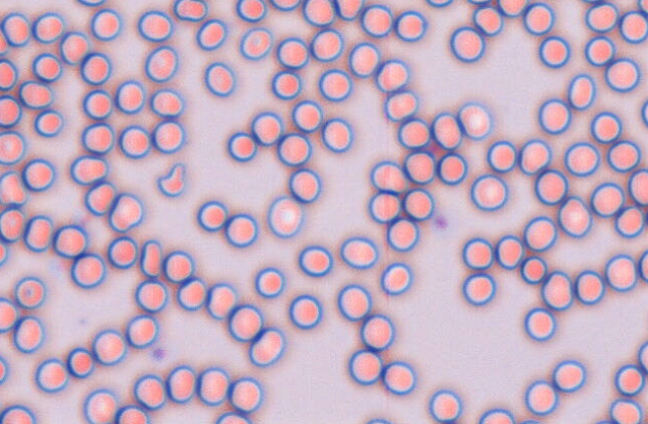PLT: (432, 213, 449, 230), (151, 345, 167, 361)
RBC: (266, 195, 303, 238), (248, 326, 286, 367), (470, 173, 508, 211), (557, 196, 592, 237), (227, 303, 263, 342), (227, 376, 263, 413), (91, 328, 127, 365), (457, 101, 492, 139), (360, 313, 395, 351), (339, 235, 378, 269), (541, 270, 574, 310), (196, 366, 229, 406), (449, 26, 485, 62), (70, 252, 106, 288), (604, 57, 641, 92), (563, 141, 600, 176), (337, 283, 371, 321), (590, 181, 625, 217), (34, 357, 69, 393), (52, 223, 88, 258), (369, 159, 406, 193), (523, 215, 557, 252), (518, 138, 552, 175), (534, 168, 568, 205), (144, 45, 178, 82), (604, 253, 637, 291), (348, 349, 382, 385), (288, 293, 322, 329), (133, 373, 166, 410), (13, 315, 45, 353), (165, 364, 196, 403), (431, 111, 462, 150), (69, 154, 108, 185), (83, 388, 117, 423), (524, 380, 558, 415), (428, 388, 462, 423), (381, 360, 416, 394), (134, 278, 168, 313), (277, 132, 312, 166), (224, 212, 258, 247), (288, 167, 321, 203), (538, 98, 571, 134), (137, 9, 173, 42), (205, 282, 237, 319), (151, 119, 185, 153), (310, 28, 344, 62), (375, 58, 409, 92), (21, 157, 55, 191), (125, 314, 159, 348), (239, 26, 273, 60), (461, 272, 496, 305), (606, 139, 641, 172), (348, 41, 380, 77), (23, 214, 53, 252), (386, 217, 419, 251), (523, 307, 556, 341), (522, 1, 555, 35), (13, 275, 46, 309), (552, 359, 586, 392), (318, 68, 352, 101), (360, 3, 393, 37), (250, 111, 283, 145), (118, 124, 151, 158), (59, 30, 91, 65), (383, 90, 418, 122), (31, 11, 66, 43), (584, 1, 619, 33), (203, 61, 235, 96), (321, 117, 353, 152), (298, 244, 333, 276), (461, 237, 494, 270), (276, 36, 309, 69), (84, 181, 116, 215), (403, 150, 435, 184), (393, 9, 427, 41), (291, 99, 323, 133), (380, 261, 412, 295), (81, 122, 115, 154), (0, 11, 31, 46), (574, 269, 605, 304), (115, 79, 146, 114), (149, 87, 184, 118), (567, 73, 596, 110), (368, 191, 401, 223), (402, 187, 434, 220), (162, 250, 194, 283), (397, 117, 430, 149), (538, 35, 570, 68), (176, 276, 207, 310), (80, 51, 111, 85), (107, 235, 138, 269), (495, 234, 525, 269), (18, 79, 53, 109), (90, 8, 122, 40), (590, 111, 622, 143), (436, 152, 467, 185), (614, 364, 645, 396), (196, 18, 227, 50), (486, 140, 517, 172), (254, 266, 285, 298), (614, 205, 644, 238), (0, 170, 27, 206), (472, 5, 503, 36), (82, 88, 113, 119), (196, 200, 227, 231), (584, 35, 615, 66), (31, 52, 62, 82), (271, 70, 302, 100), (619, 10, 647, 43), (0, 130, 26, 165), (227, 131, 257, 161), (66, 346, 94, 378), (139, 239, 162, 277), (302, 0, 335, 26), (609, 398, 643, 423), (0, 207, 24, 242), (33, 109, 63, 137), (519, 255, 547, 284), (627, 168, 647, 206), (173, 0, 208, 21), (0, 94, 22, 127), (235, 0, 267, 22), (0, 404, 36, 423), (114, 404, 150, 423), (0, 296, 18, 333), (0, 58, 18, 91), (478, 407, 515, 423), (334, 0, 363, 20), (496, 0, 528, 17), (214, 411, 251, 423), (269, 0, 300, 11), (638, 248, 648, 282), (637, 340, 647, 373), (0, 354, 8, 384), (0, 28, 8, 55), (0, 240, 8, 266), (641, 98, 648, 127), (425, 0, 453, 7), (76, 0, 106, 6), (637, 0, 648, 14), (466, 0, 493, 5), (579, 0, 605, 4)
Schistocyte: (110, 192, 144, 234), (157, 163, 184, 198)
